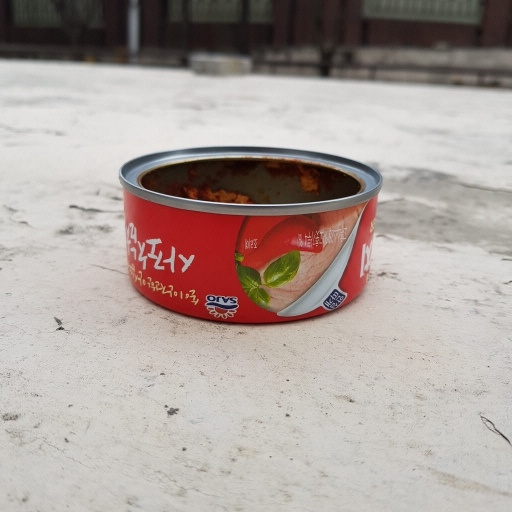Metal_1: (118, 145, 385, 323)
